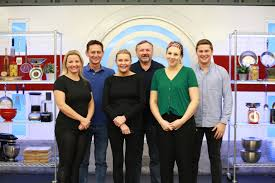Bad: (156, 39, 228, 75), (85, 40, 137, 83), (54, 40, 114, 76), (133, 40, 192, 71), (111, 40, 155, 77)
